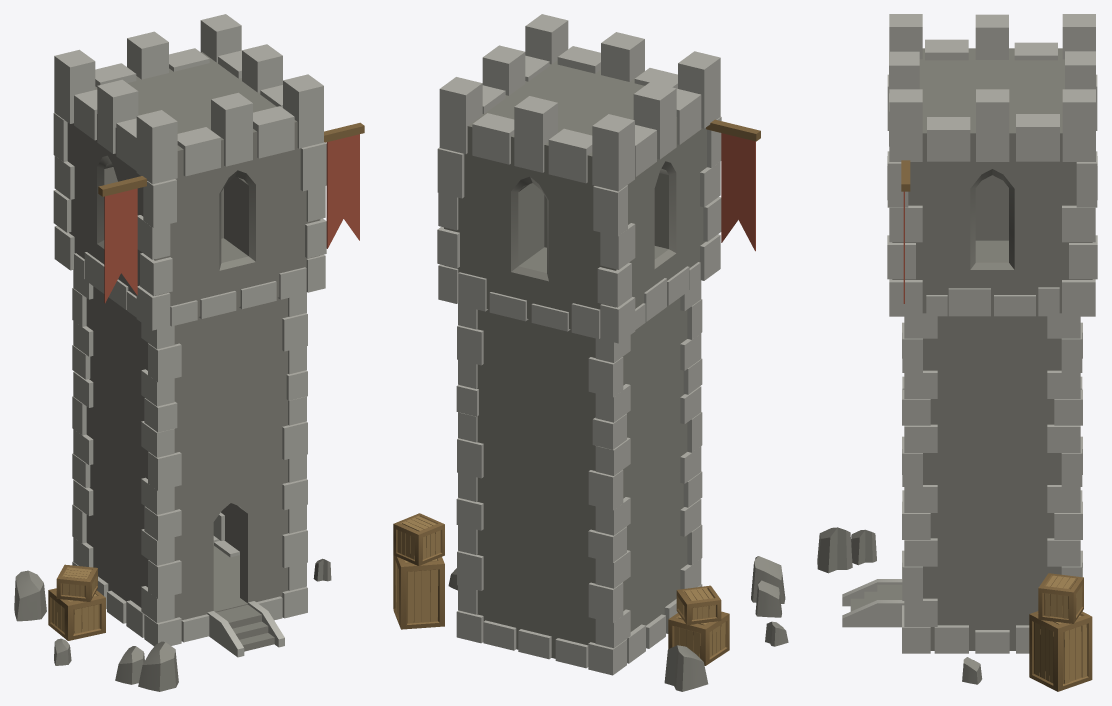
File: WatchTower_SecondAge_Level2.glb
The picture shows the model from 3 angles, left to right: view 1: azimuth 30°, elevation 25°; view 2: azimuth 150°, elevation 25°; view 3: azimuth 270°, elevation 25°; orthographic projection. The views are drawn at different scales.
Visible parts, largest first — view 1: WatchTower_SecondAge_Level2; view 2: WatchTower_SecondAge_Level2; view 3: WatchTower_SecondAge_Level2.
Part boxes in pixels (box(x1,y1,x2,y2)): WatchTower_SecondAge_Level2: box(14, 14, 364, 691); WatchTower_SecondAge_Level2: box(393, 14, 788, 691); WatchTower_SecondAge_Level2: box(817, 14, 1097, 691).
Bounding box in the file's own units: 0.8383 × 1.36 × 0.6138.
Materials: 1 (1 with a texture image).
